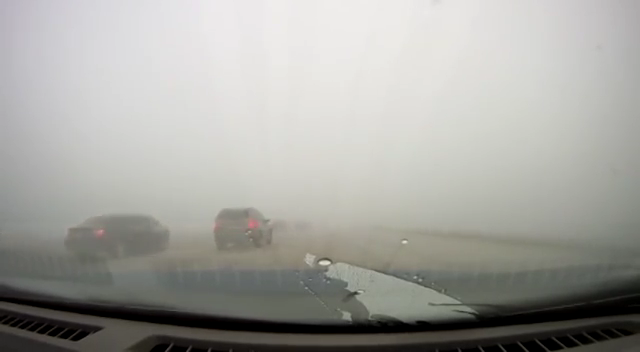car: (64, 210, 171, 258), (213, 206, 273, 249)
